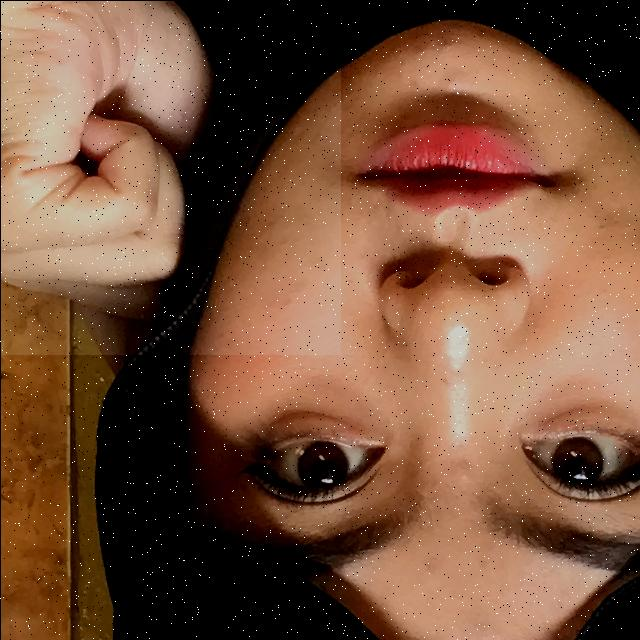ibu: (0, 0, 340, 354)
